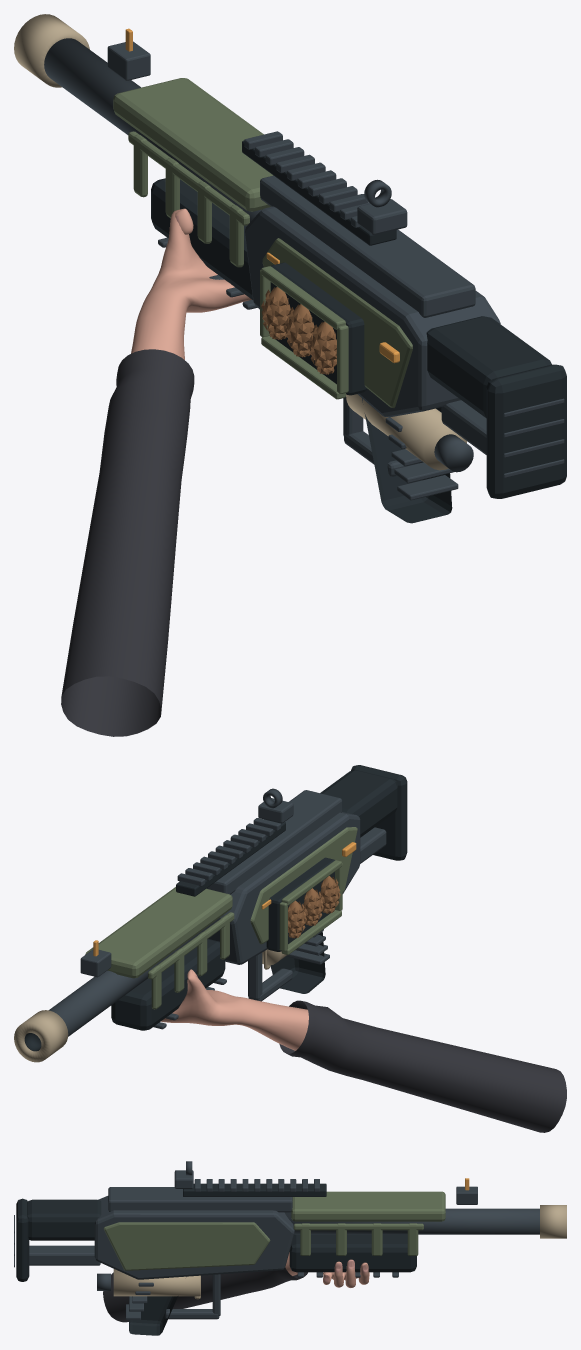
File: cedar_runtime.glb
3 views of the same model, one above another, from view 1: azimuth 30°, elevation 25°; view 2: azimuth 150°, elevation 25°; view 3: azimuth 270°, elevation 25° (orthographic). The views are drawn at different scales.
Visible parts, largest first — view 1: CedarGunAssembly, HoodieSleeve, FemaleSupportHand; view 2: CedarGunAssembly, HoodieSleeve, FemaleSupportHand; view 3: CedarGunAssembly, HoodieSleeve, FemaleSupportHand.
Boxes of the visible parts, x1,y1,x2,y2 form: CedarGunAssembly: [14, 14, 566, 523]; HoodieSleeve: [61, 349, 194, 736]; FemaleSupportHand: [131, 208, 251, 359]; CedarGunAssembly: [14, 765, 407, 1062]; HoodieSleeve: [279, 1000, 566, 1132]; FemaleSupportHand: [161, 969, 308, 1050]; CedarGunAssembly: [14, 1161, 566, 1335]; HoodieSleeve: [103, 1267, 307, 1322]; FemaleSupportHand: [285, 1252, 369, 1287].
Size of the model in its own units: 0.4872 by 0.4996 by 1.02.
Materials: 1 (1 with a texture image).
